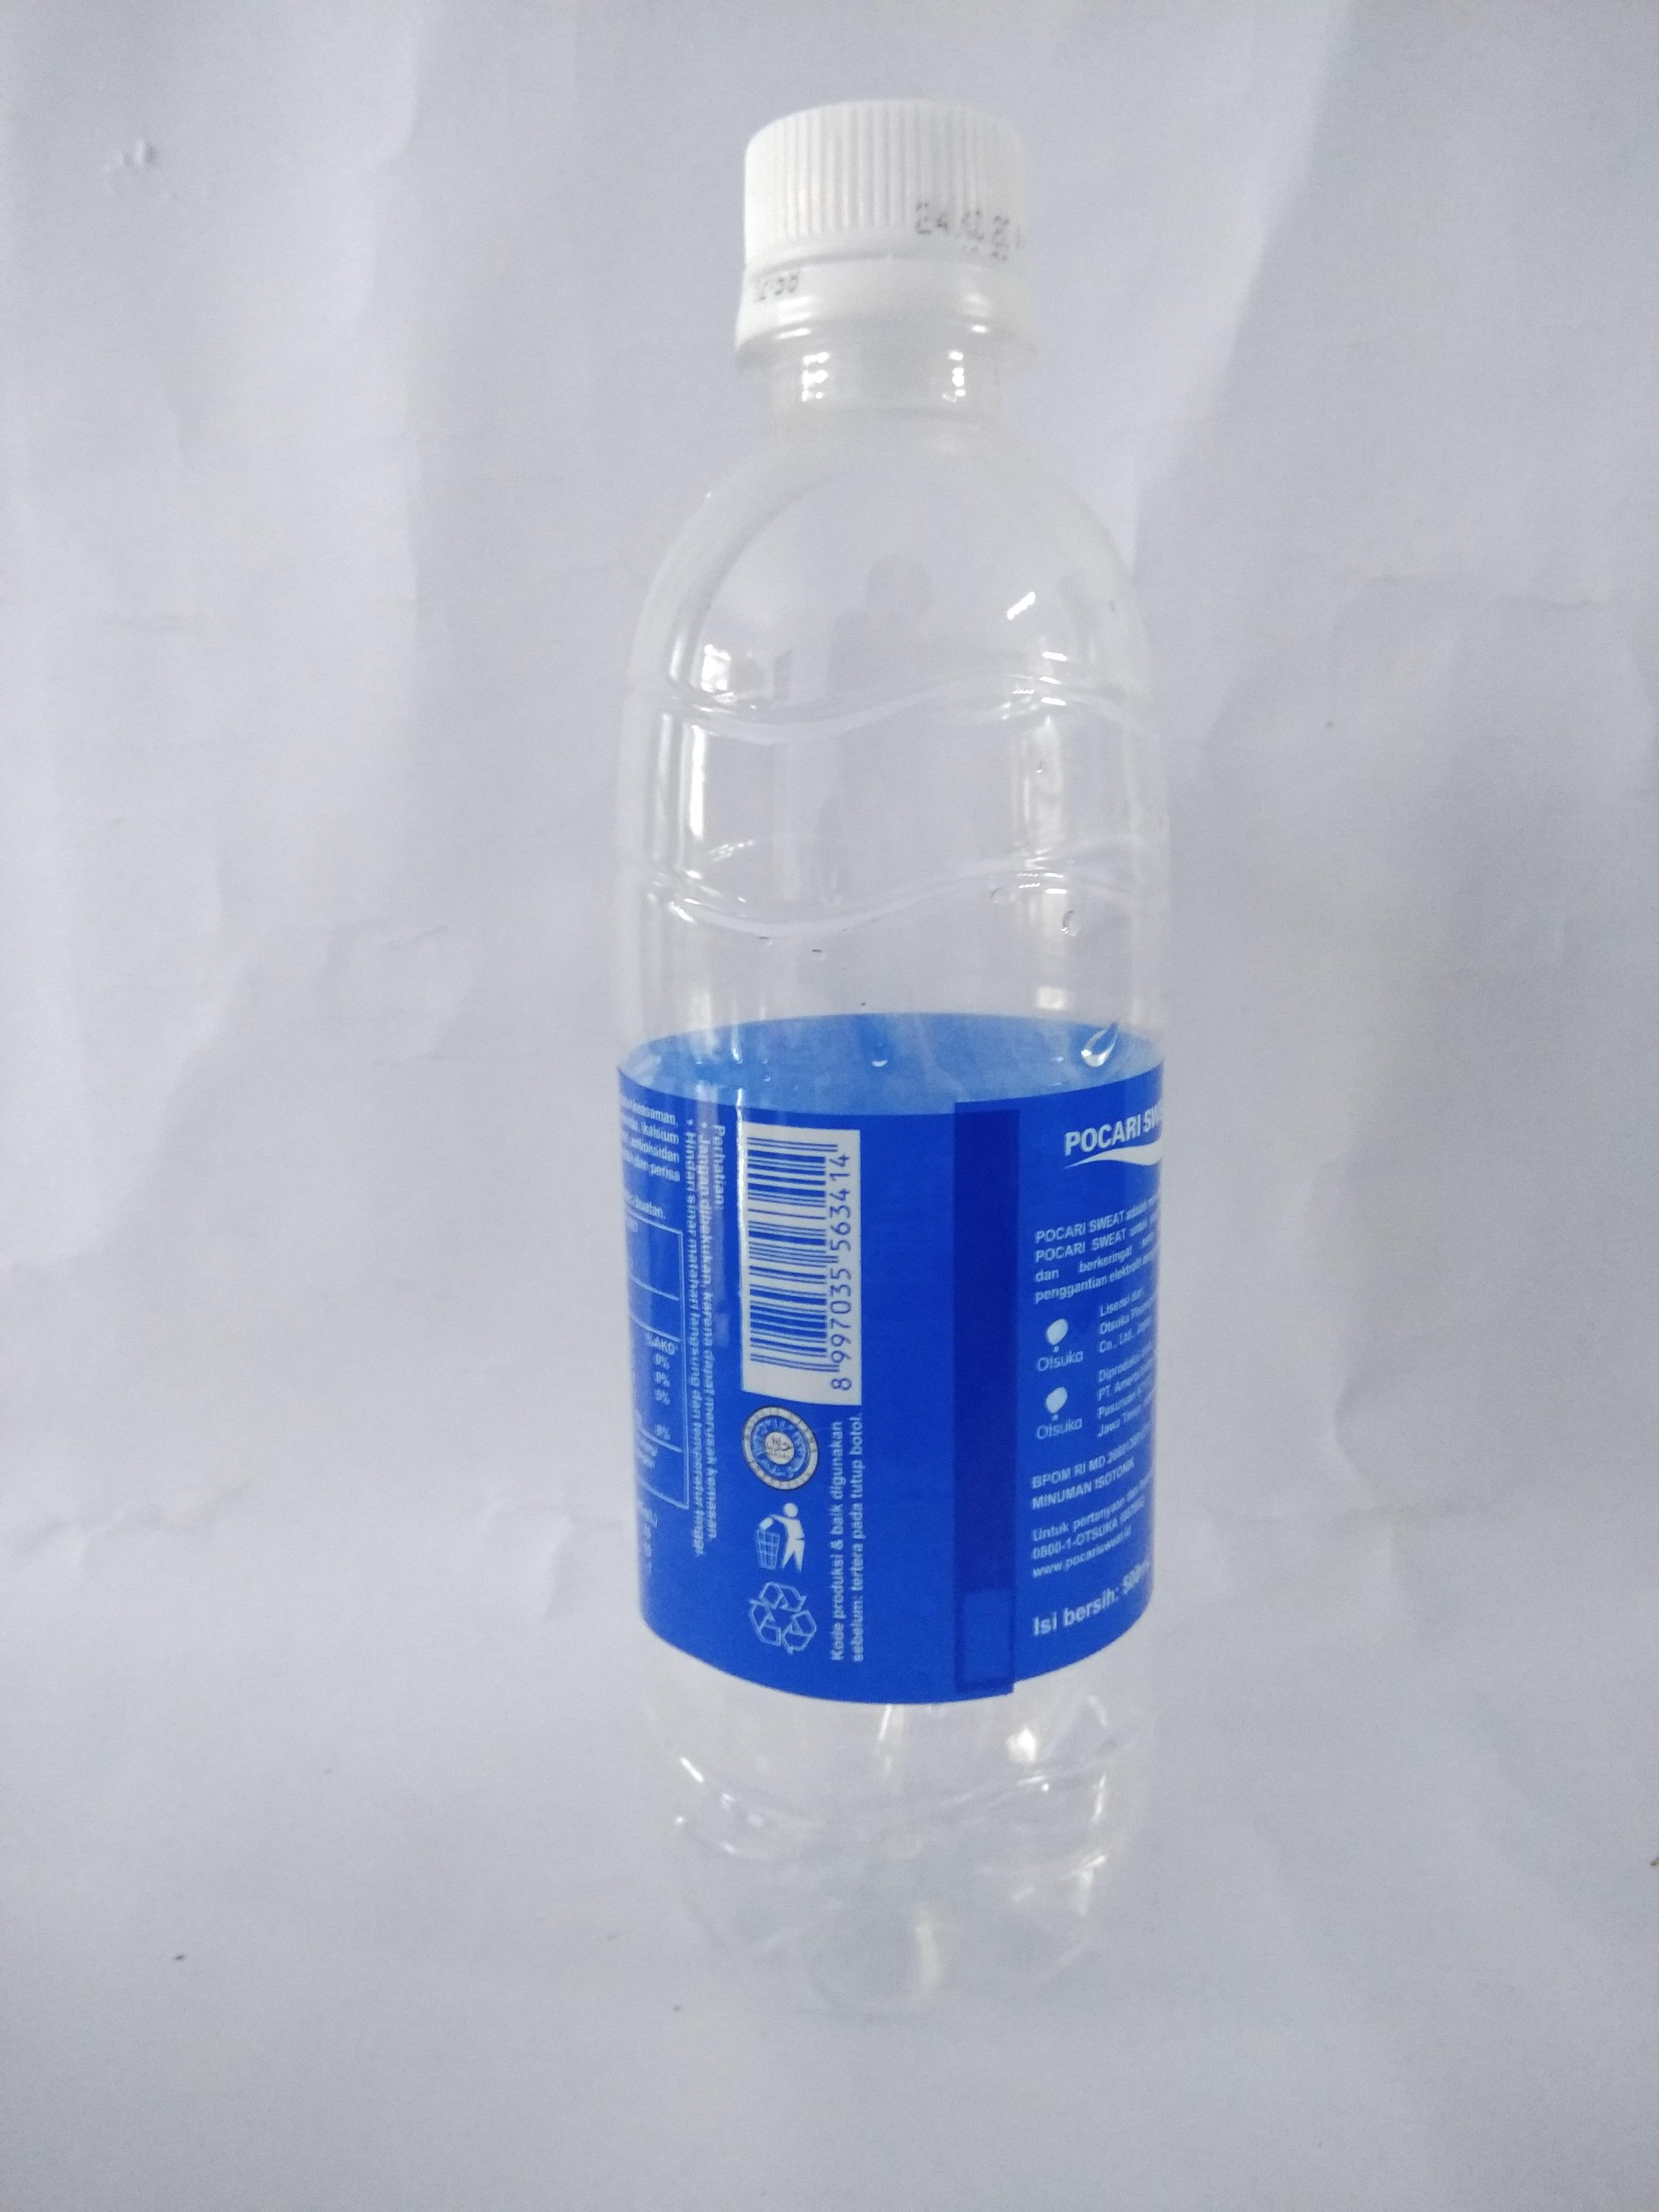HDPE: (737, 96, 1033, 333)
PETE: (613, 320, 1162, 2020)
PP: (620, 1075, 1161, 1705)
